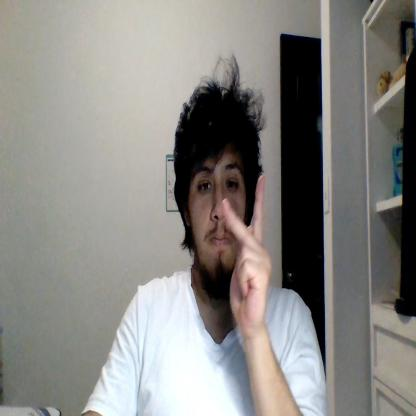P: (221, 173, 272, 333)
